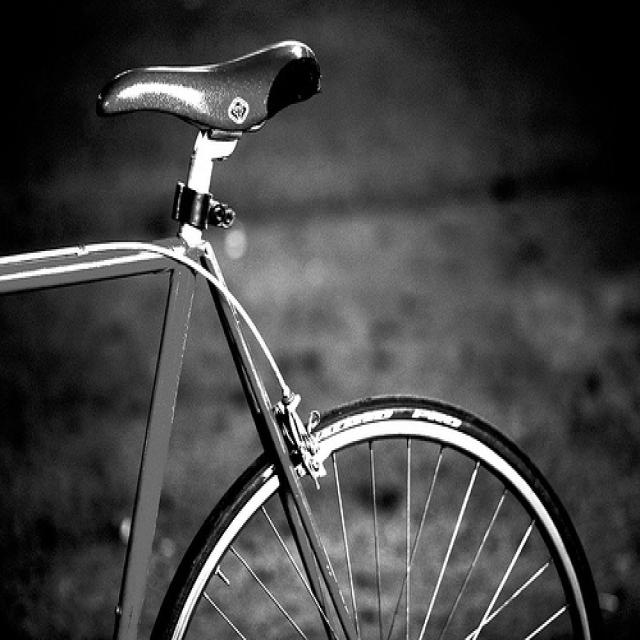bicycle: (0, 39, 602, 638)
